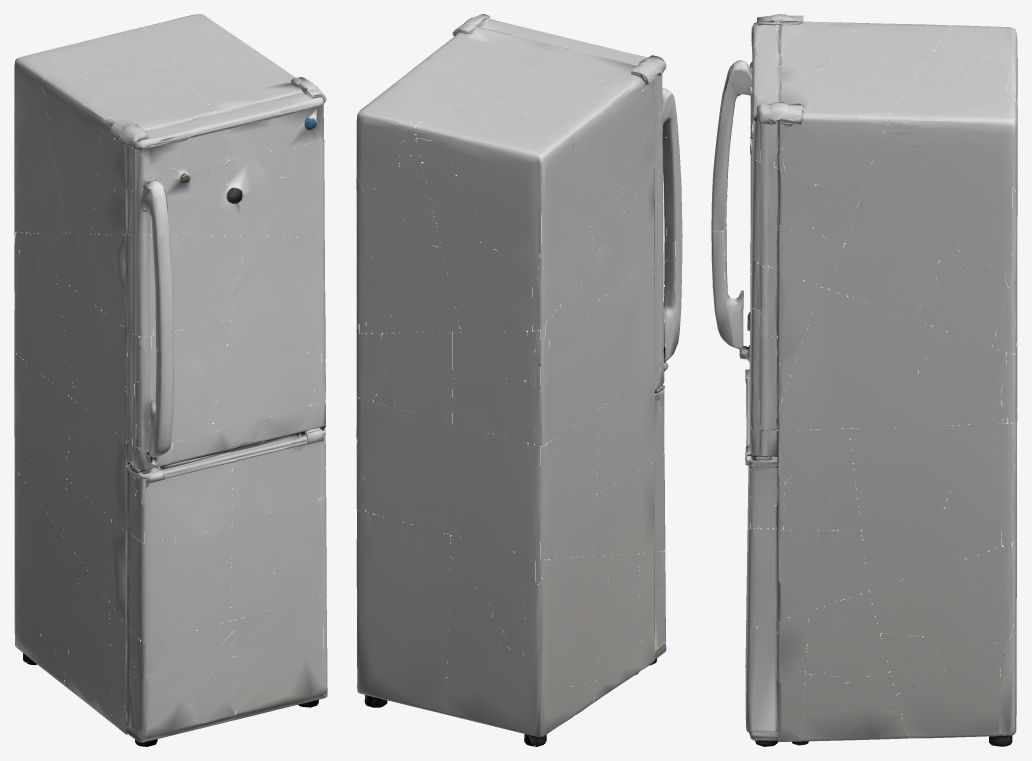
The model's file is fridge.glb.
3 renders of one model, left to right at view 1: azimuth 30°, elevation 25°; view 2: azimuth 150°, elevation 25°; view 3: azimuth 270°, elevation 25°, orthographic. The views are drawn at different scales.
Parts seen in each view (by area): view 1: fridge; view 2: fridge; view 3: fridge.
Boxes of the visible parts, box(x1,y1,x2,y2) form: fridge: box(14, 14, 327, 746); fridge: box(356, 14, 682, 746); fridge: box(711, 14, 1017, 746).
Size of the model in its own units: 0.5426 by 1.6 by 0.693.
Materials: 1 (1 with a texture image).
